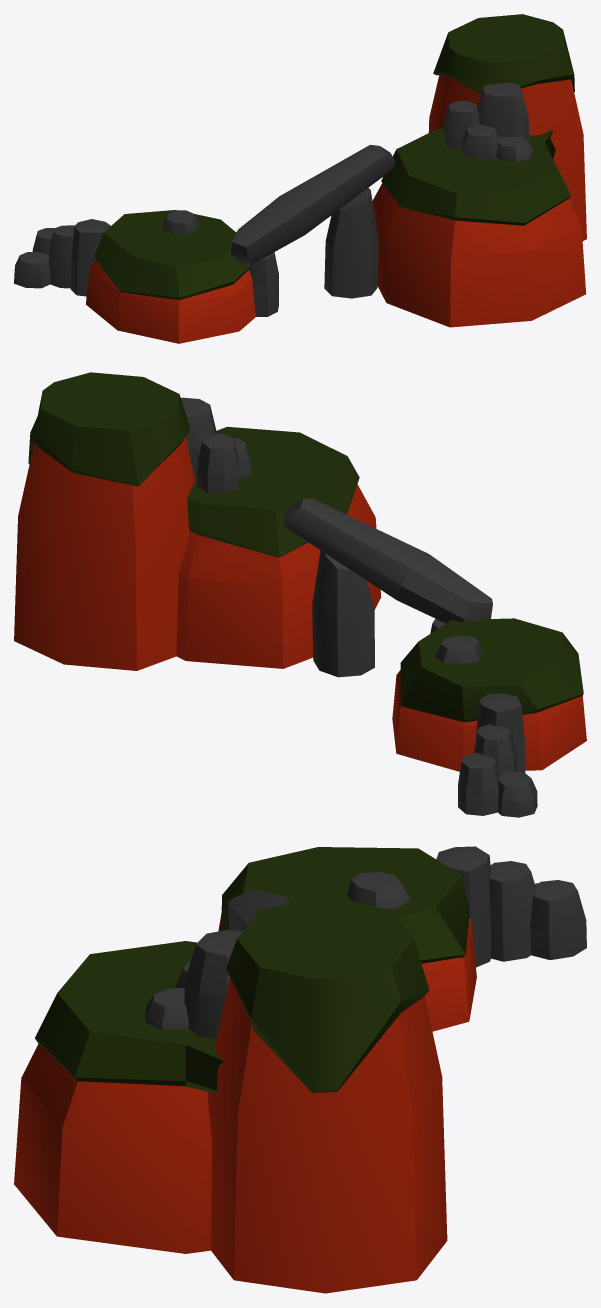
File: hill_bridge.fbx
3 views of the same model, one above another, from view 1: azimuth 30°, elevation 25°; view 2: azimuth 150°, elevation 25°; view 3: azimuth 270°, elevation 25° (orthographic). The views are drawn at different scales.
Parts seen in each view (by area): view 1: simple_bridge; view 2: simple_bridge; view 3: simple_bridge.
Part boxes in pixels (box(x1,y1,x2,y2)): simple_bridge: box(14, 14, 586, 343); simple_bridge: box(14, 372, 586, 817); simple_bridge: box(14, 846, 586, 1293).
Bounding box in the file's own units: 4583 × 1707 × 2935.
